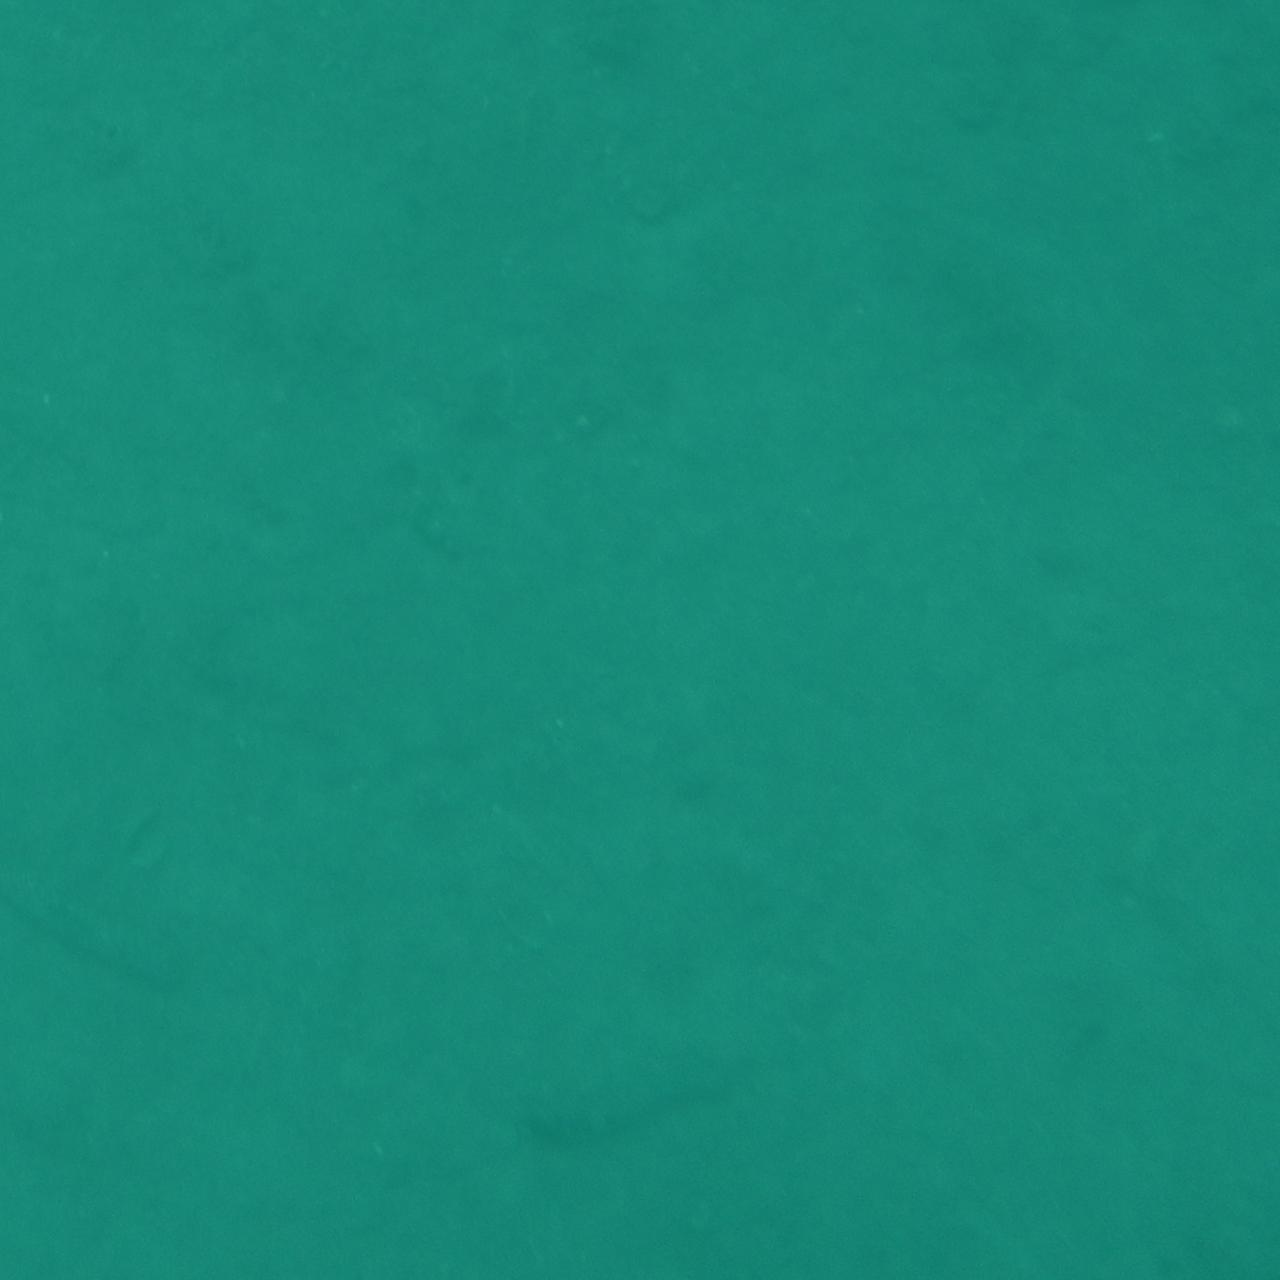Holothuria tubulosa: (506, 1029, 774, 1192)
